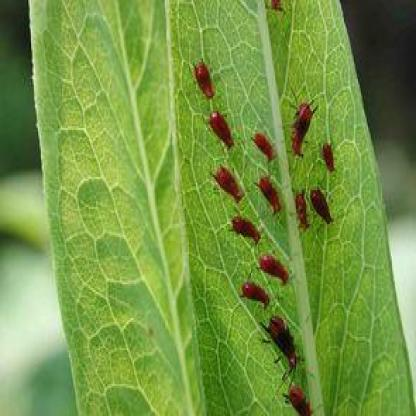aphid: (258, 310, 299, 375), (205, 163, 252, 206), (292, 94, 319, 161), (236, 272, 276, 316), (224, 212, 268, 249), (206, 102, 236, 153), (188, 56, 216, 108), (256, 170, 284, 222), (251, 249, 292, 284), (282, 376, 315, 416), (309, 181, 336, 228), (250, 130, 280, 167), (293, 187, 313, 232), (322, 135, 341, 177)
